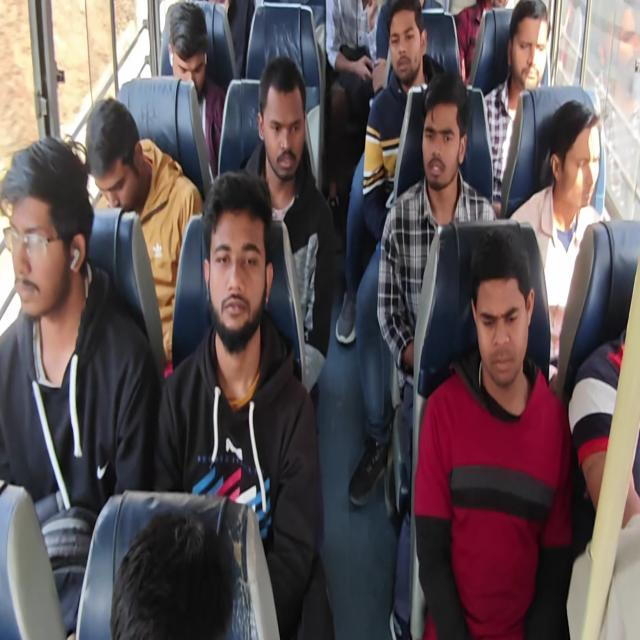person: (112, 472, 230, 640), (3, 153, 78, 310), (79, 100, 159, 224), (199, 206, 267, 349), (468, 265, 536, 386), (541, 112, 602, 215), (256, 82, 311, 194), (503, 0, 559, 83), (419, 100, 468, 190), (168, 2, 212, 86), (382, 6, 424, 90)
